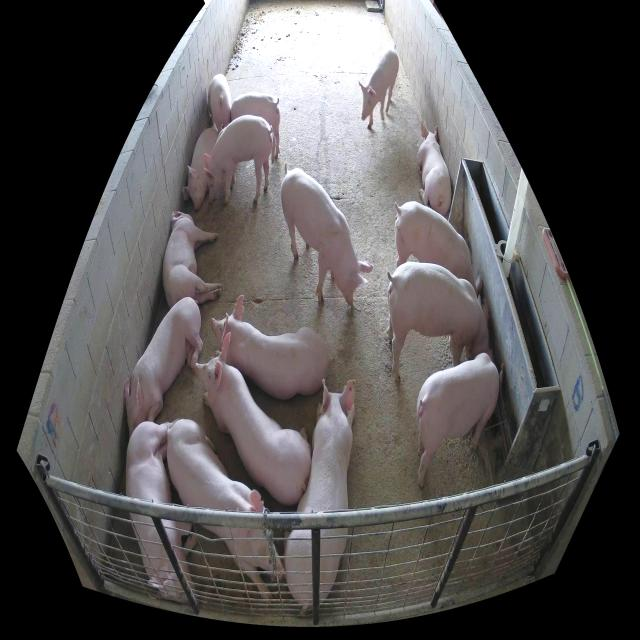pig: (169, 416, 284, 606), (194, 331, 311, 504), (282, 377, 356, 609), (126, 416, 204, 605), (386, 261, 491, 386), (280, 170, 374, 306), (417, 348, 504, 489), (211, 294, 330, 396), (125, 299, 203, 438), (394, 202, 482, 297), (203, 115, 273, 205), (162, 211, 222, 307), (232, 92, 281, 165), (416, 121, 452, 217), (358, 47, 399, 129), (182, 127, 220, 212), (208, 74, 232, 133)
